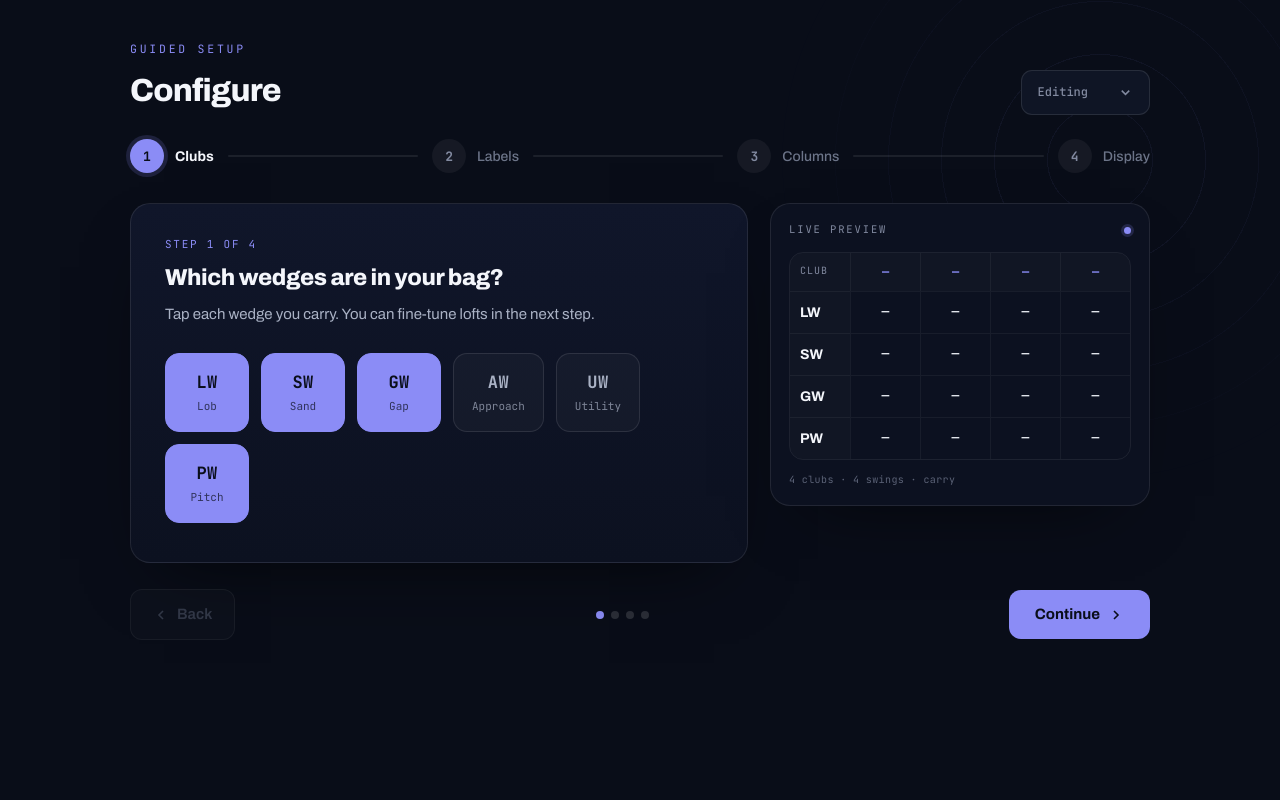
Test: ConfigureView › Wizard Navigation › advances to the next step when Continue is clicked
The width and height of the screenshot is (1280, 800).
What coordinates should you click on to do the following:
click the button with test id "wizard-next-button"
I would click on:
 (1079, 615)
Its box is [1009,590,1150,639].
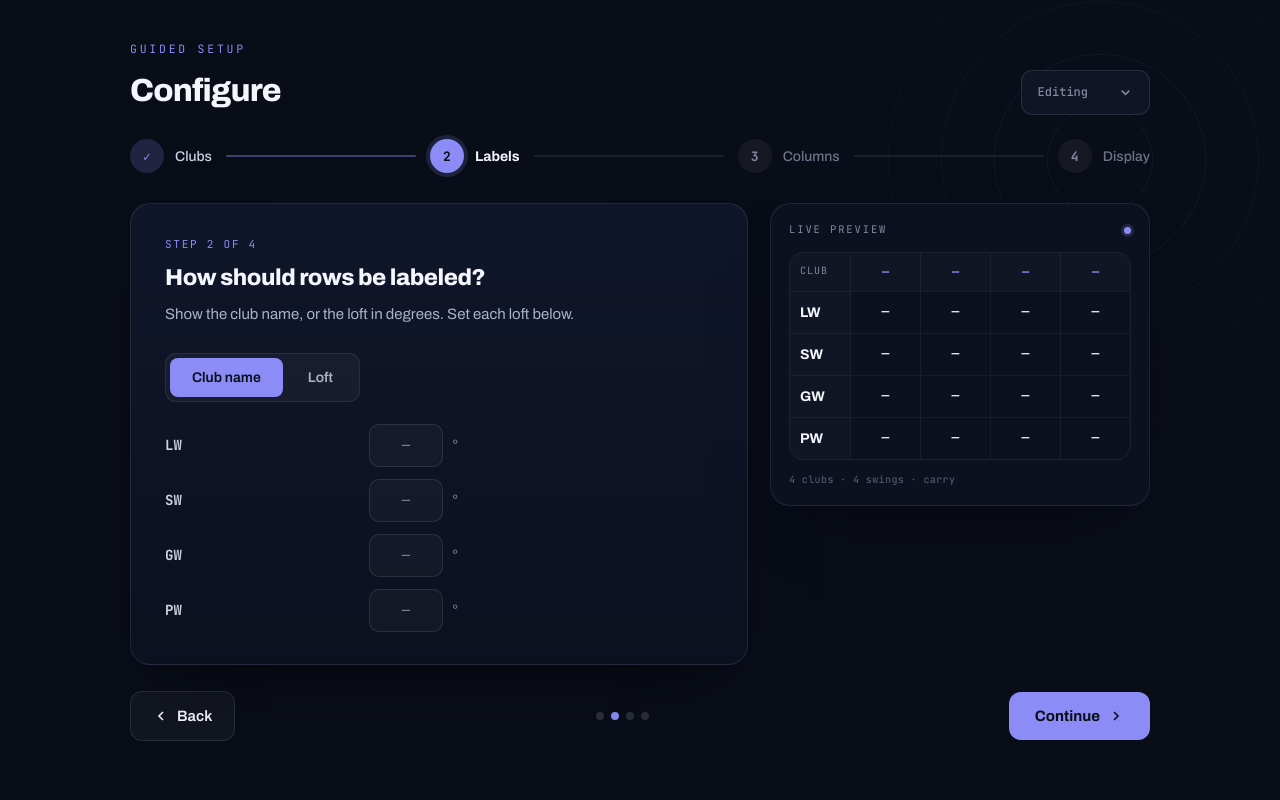
Expected: the text "Step 2 of 4" is shown, [165,237,257,251]
Expected: the text "How should rows be labeled?" is shown, [165,265,485,290]
